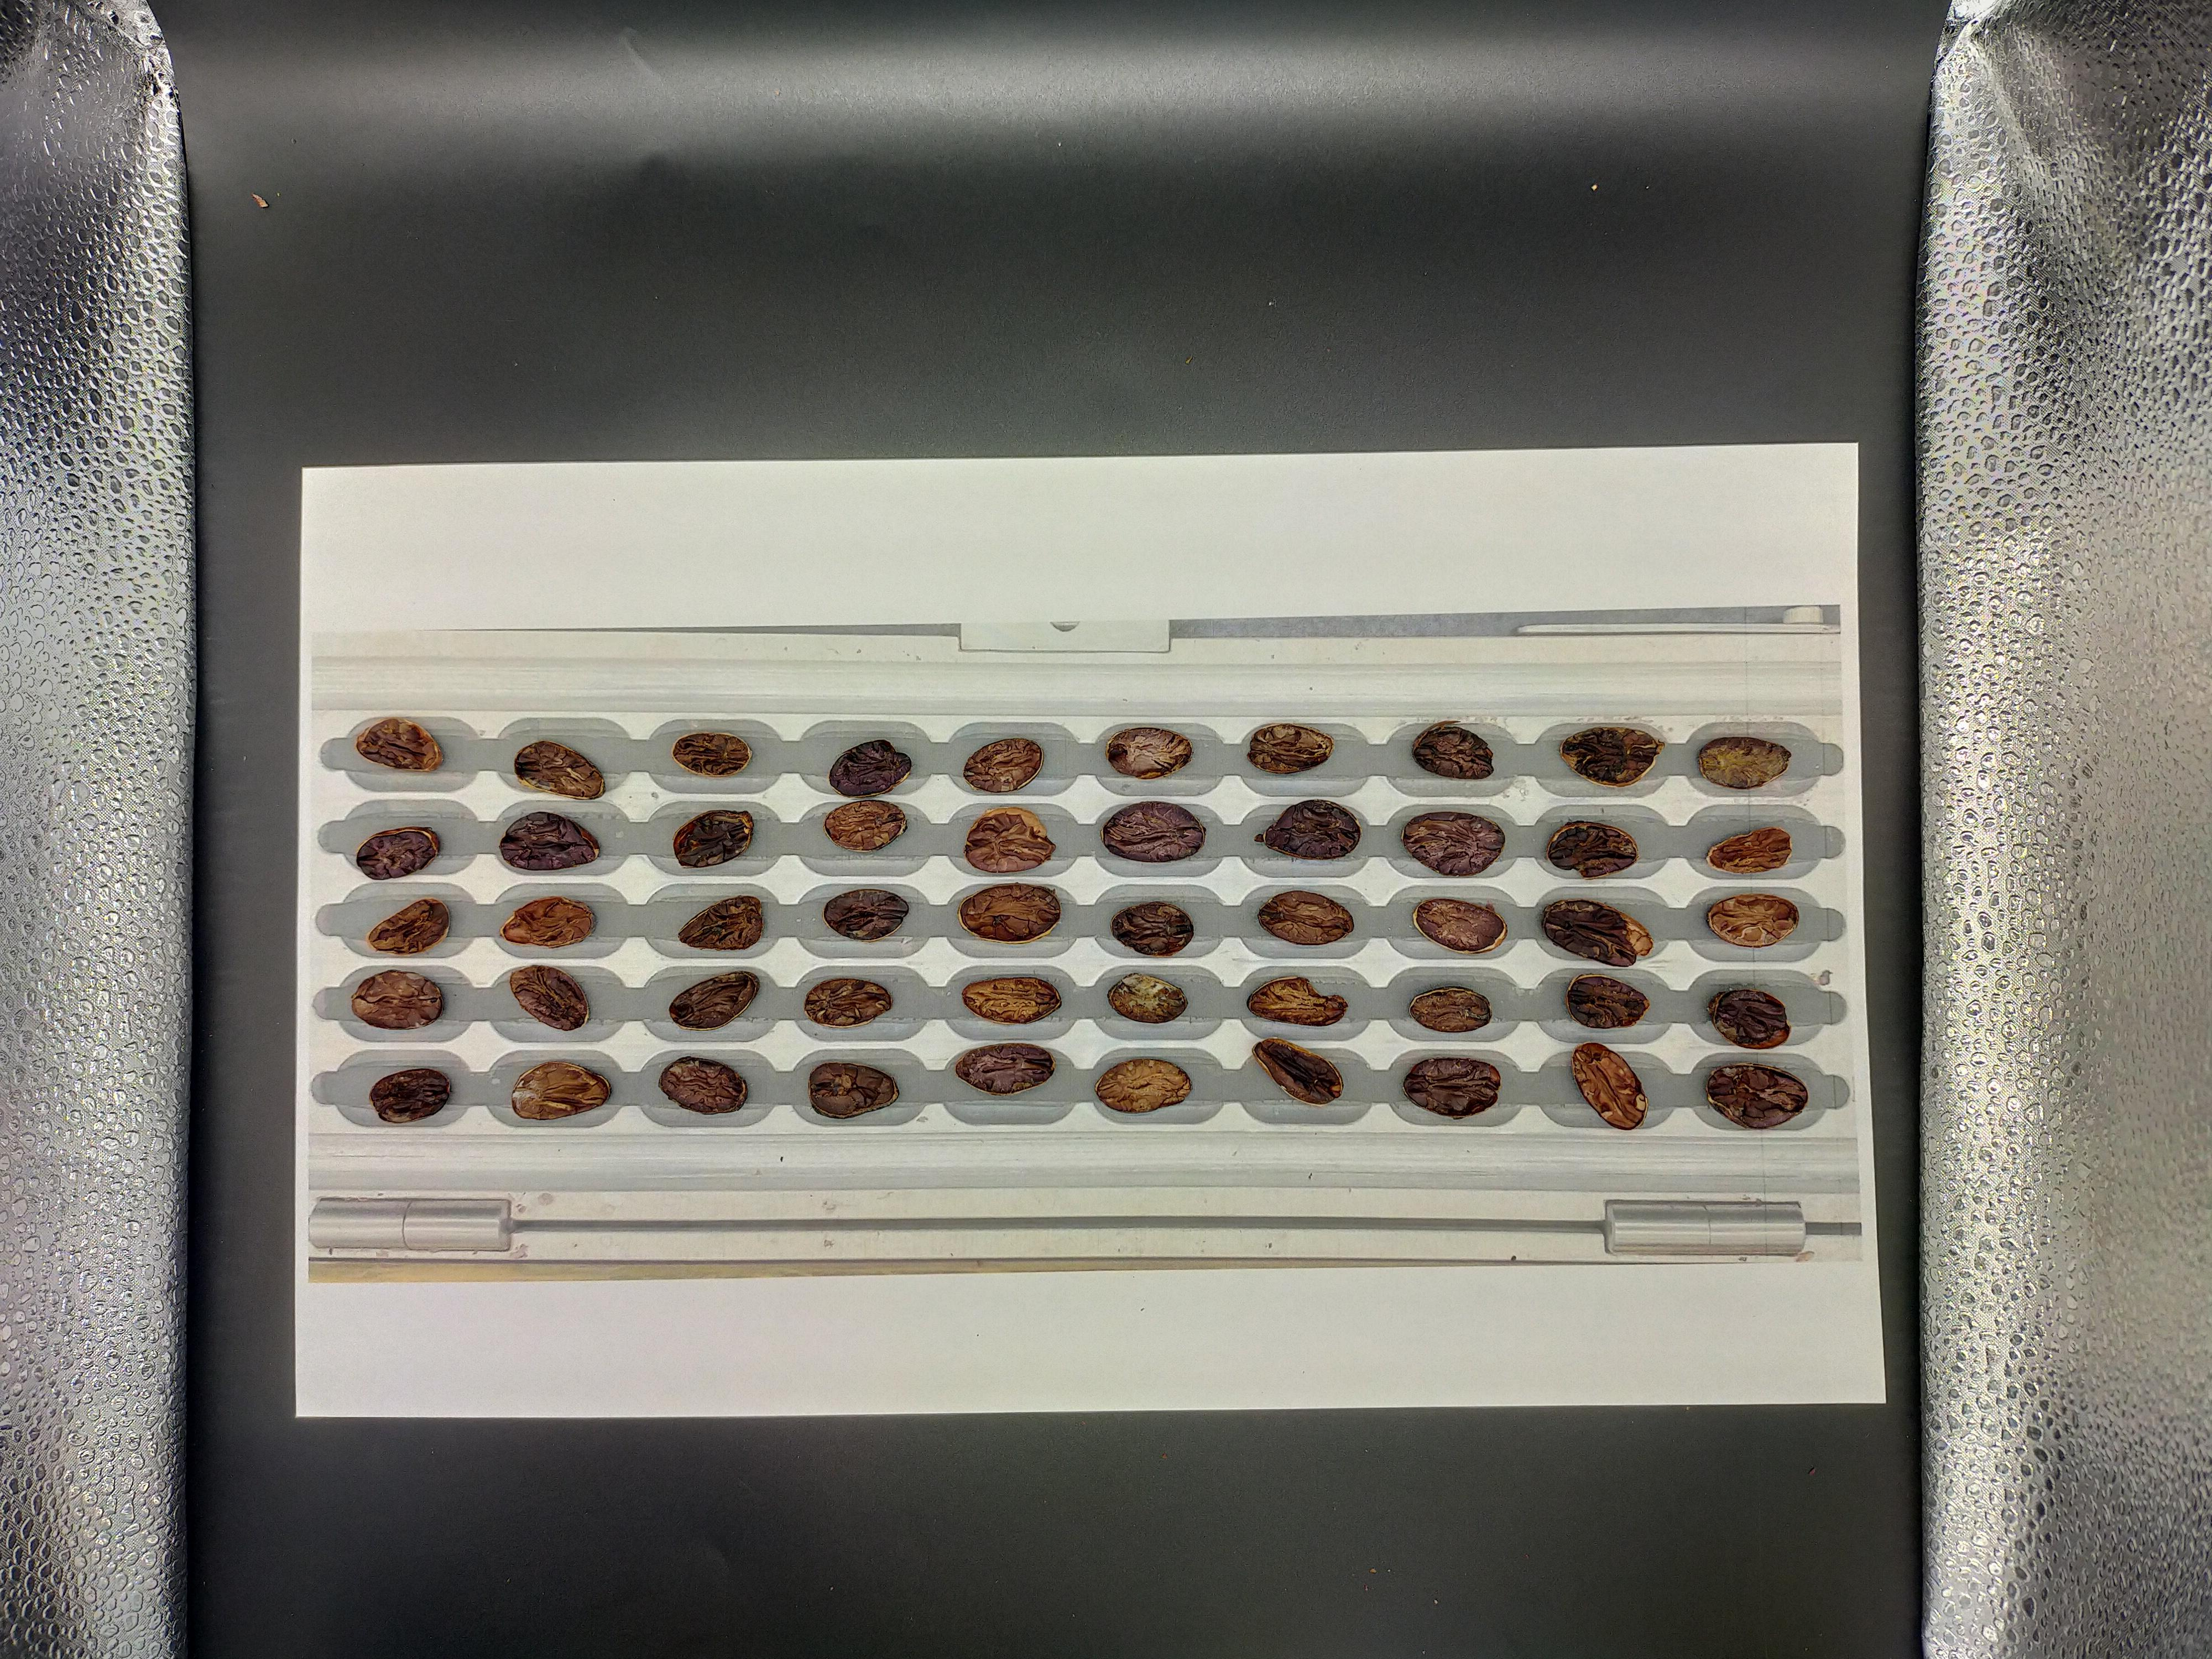Brown - G1: (1881, 532, 1930, 582), (1571, 410, 1623, 451), (1716, 366, 1766, 401), (1489, 497, 1541, 530), (1951, 420, 2001, 450)
Brown - G2: (1716, 497, 1775, 528), (1423, 455, 1475, 490), (1569, 497, 1627, 528), (1569, 375, 1620, 410), (1951, 457, 2005, 488), (1259, 366, 1310, 399), (1334, 458, 1390, 488)
Brown - G3: (1338, 491, 1388, 533), (1571, 448, 1627, 484), (1721, 453, 1778, 488), (1256, 495, 1313, 530), (1341, 375, 1393, 413), (1414, 538, 1467, 575), (1264, 457, 1315, 493), (1637, 540, 1693, 572), (1639, 369, 1693, 401), (1500, 408, 1547, 439)
Brown - G4: (1797, 504, 1846, 532)
Insect-damaged: (1946, 375, 2000, 408)
Mouldy: (1339, 538, 1397, 579), (1642, 497, 1693, 526)
Partly Purple - G1: (1871, 418, 1921, 453), (1879, 497, 1926, 530)
Partly Purple - G2: (1794, 413, 1853, 453), (1796, 538, 1851, 575)
Partly Purple - G3: (1566, 532, 1623, 565)
Partly Purple - G4: (1801, 455, 1855, 491)
Total Purple - G3: (1721, 406, 1780, 444), (1641, 408, 1700, 446), (1501, 375, 1550, 411), (1259, 420, 1310, 453)
Very Dark Brown - G1: (1867, 457, 1930, 498), (1872, 368, 1935, 406), (1952, 504, 2000, 542), (1420, 371, 1470, 403)
Very Dark Brown - G2: (1717, 528, 1773, 570), (1332, 413, 1392, 450), (1952, 542, 2008, 580), (1266, 542, 1315, 580), (1799, 368, 1850, 403), (1425, 411, 1470, 450), (1646, 458, 1695, 493)
Very Dark Brown - G3: (1420, 493, 1472, 533), (1489, 540, 1543, 579), (1500, 451, 1548, 484)
